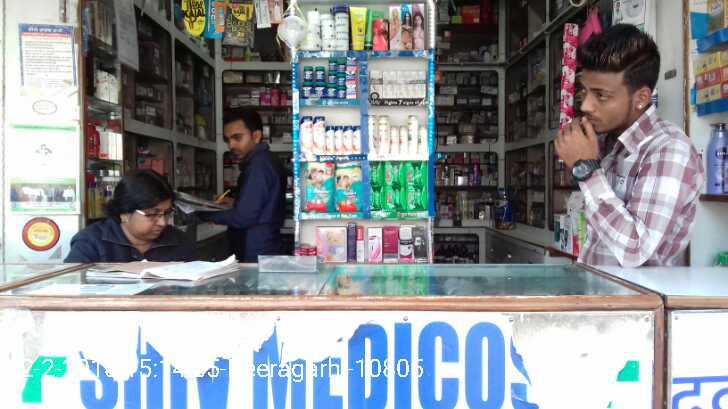vicks: (299, 57, 357, 99)
